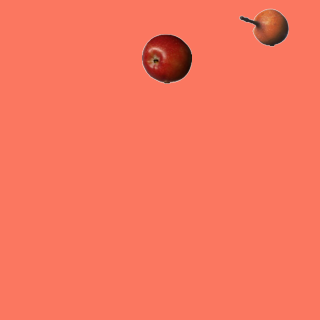Apple Braeburn: (141, 33, 191, 83)
Granadilla: (238, 2, 288, 52)
